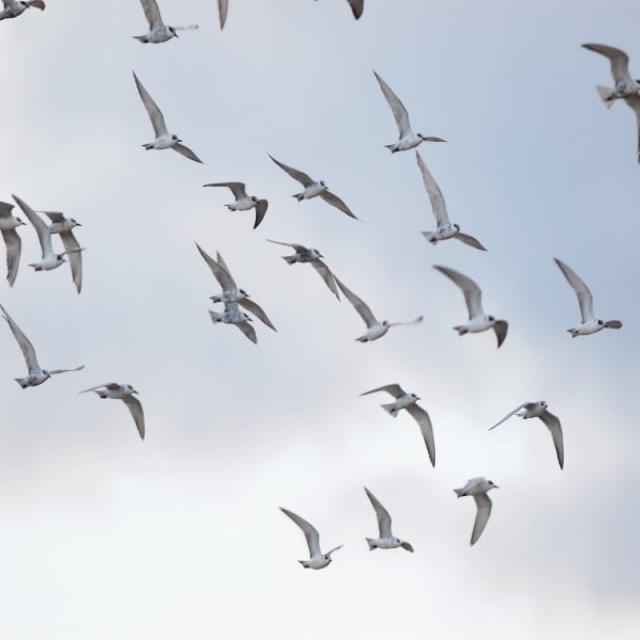bird: (304, 266, 428, 351), (191, 240, 280, 343), (410, 157, 492, 256), (357, 377, 441, 473), (129, 72, 208, 164), (0, 304, 85, 389), (370, 71, 450, 159), (264, 154, 364, 223), (431, 265, 511, 351), (582, 45, 640, 162), (21, 208, 89, 300), (488, 397, 569, 474), (554, 259, 624, 339), (207, 250, 260, 345), (266, 232, 338, 297), (280, 508, 347, 577), (83, 378, 150, 445), (358, 484, 416, 556), (202, 182, 272, 232), (454, 478, 502, 550), (0, 202, 35, 290), (33, 198, 86, 250), (131, 0, 189, 46), (202, 0, 264, 32), (0, 0, 47, 30)
